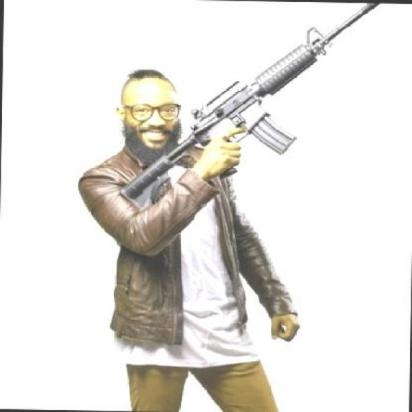Gun: (223, 0, 380, 147)
